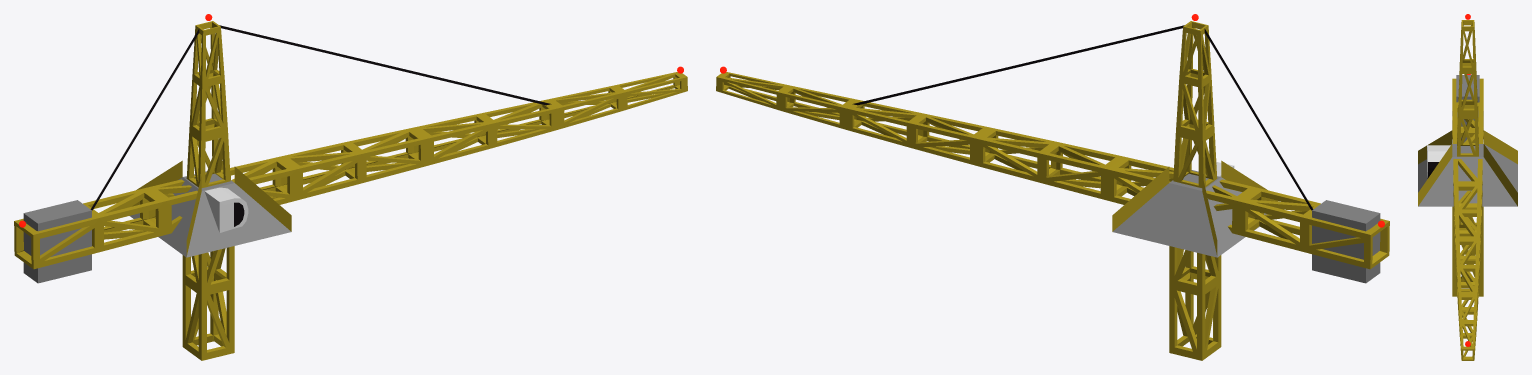
File: grue.glb
The picture shows the model from 3 angles, left to right: view 1: azimuth 30°, elevation 25°; view 2: azimuth 150°, elevation 25°; view 3: azimuth 270°, elevation 25°; orthographic projection. The views are drawn at different scales.
Visible parts, largest first — view 1: grue_fleche, grue_base, grue_mat; view 2: grue_fleche, grue_base, grue_mat; view 3: grue_fleche, grue_base, grue_mat.
Part boxes in pixels (box(x1,y1,x2,y2)): grue_fleche: box(14, 14, 687, 283); grue_base: box(130, 160, 291, 257); grue_mat: box(182, 246, 234, 360); grue_fleche: box(716, 14, 1389, 283); grue_base: box(1112, 159, 1278, 257); grue_mat: box(1169, 246, 1221, 360); grue_fleche: box(1427, 14, 1483, 360); grue_base: box(1418, 130, 1517, 206); grue_mat: box(1452, 206, 1483, 296).
Size of the model in its own units: 40.25 by 19.43 by 6.37.
